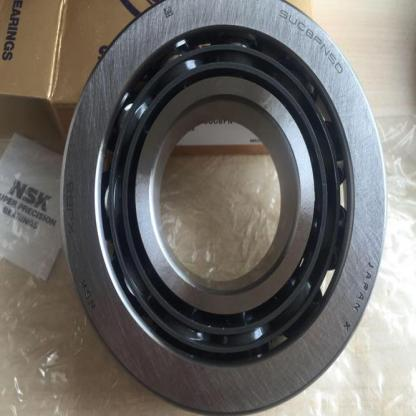FOD: (56, 0, 392, 415)
